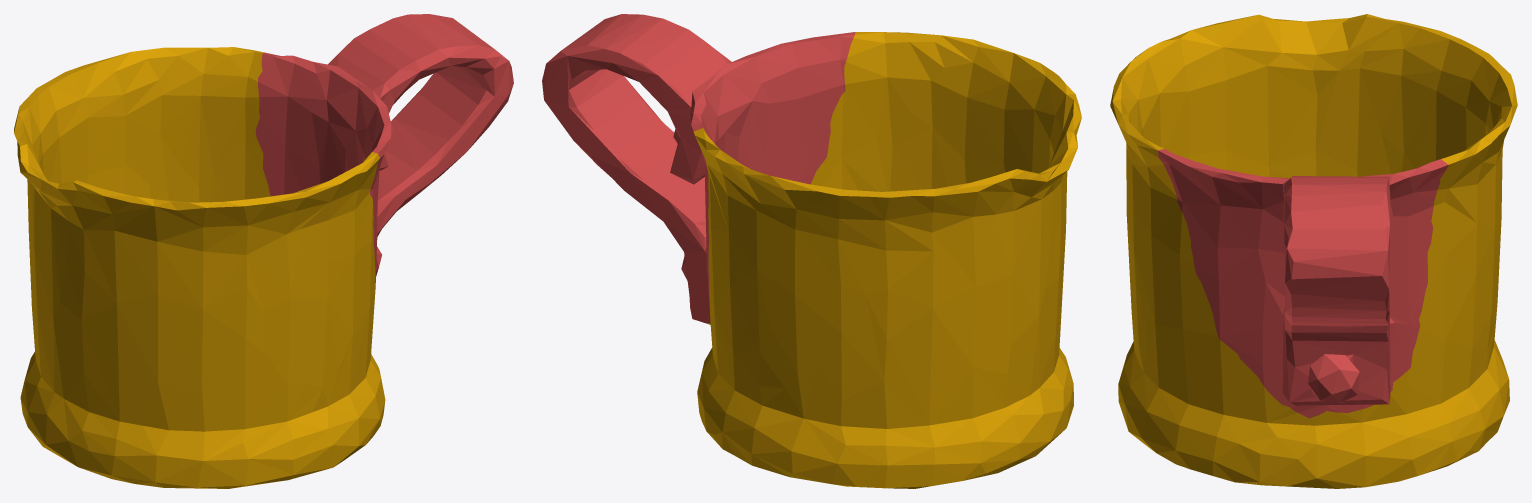
The model's file is fractured_19_2pcs.glb.
3 renders of one model, left to right at view 1: azimuth 30°, elevation 25°; view 2: azimuth 150°, elevation 25°; view 3: azimuth 270°, elevation 25°, orthographic. The views are drawn at different scales.
Parts seen in each view (by area): view 1: piece_0.obj, piece_1.obj; view 2: piece_0.obj, piece_1.obj; view 3: piece_0.obj, piece_1.obj.
Boxes of the visible parts, x1,y1,x2,y2 form: piece_0.obj: (14, 47, 385, 488); piece_1.obj: (255, 14, 513, 288); piece_0.obj: (694, 32, 1081, 488); piece_1.obj: (542, 14, 855, 323); piece_0.obj: (1110, 14, 1517, 488); piece_1.obj: (1158, 149, 1448, 418).
Size of the model in its own units: 1 by 0.6464 by 0.6966.
